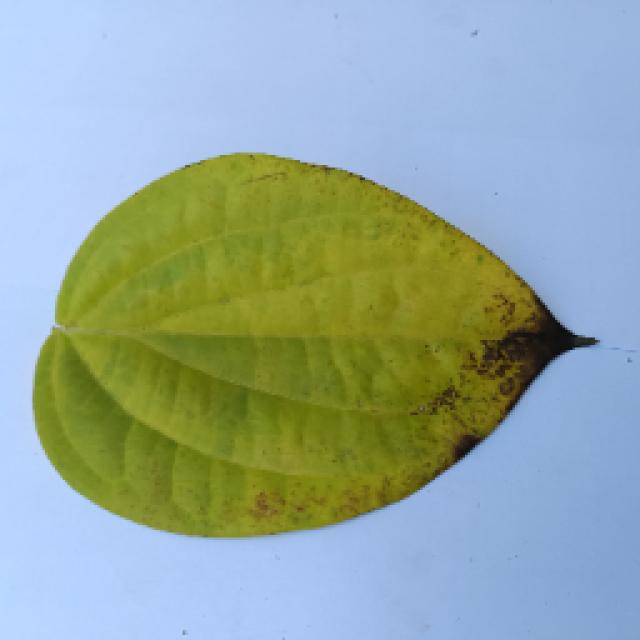slow-decline: (32, 152, 590, 532)
